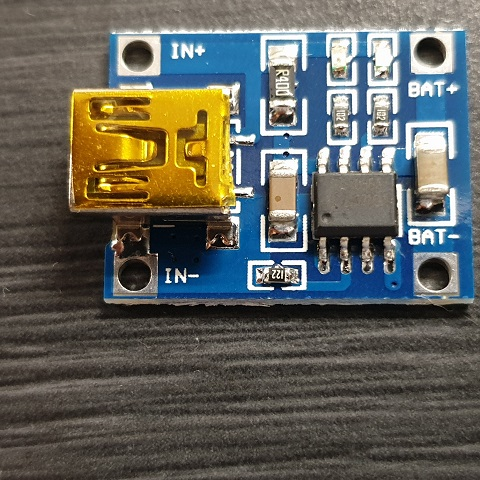batt+: (410, 35, 448, 71)
batt-: (416, 250, 458, 294)
charge: (329, 31, 365, 86)
done: (365, 30, 400, 86)
rprog: (249, 260, 308, 291)
usb: (68, 84, 236, 210)
